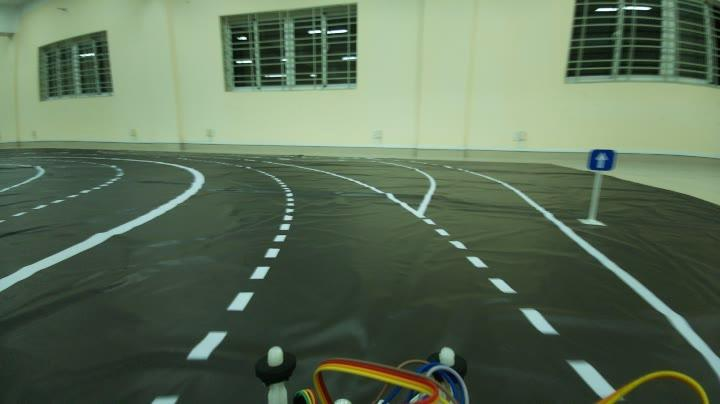onewayroad: (582, 140, 620, 178)
